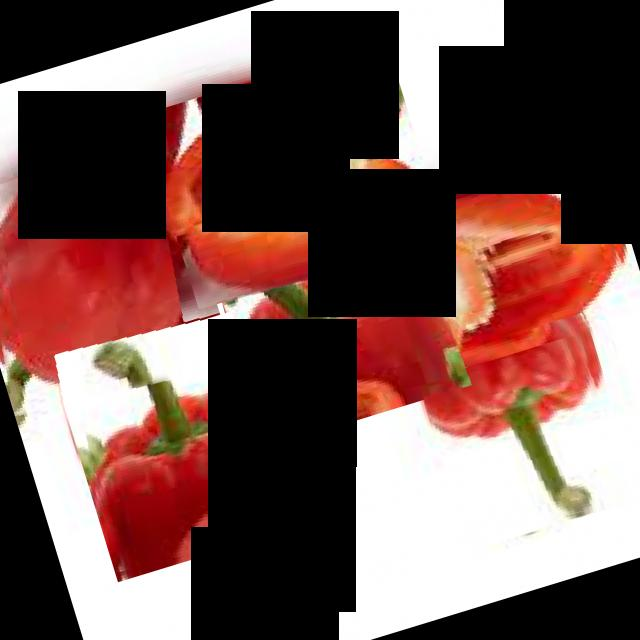pepper: (115, 39, 448, 324), (51, 310, 297, 582), (0, 139, 216, 429), (208, 212, 471, 449), (413, 310, 640, 550), (401, 146, 640, 371)
